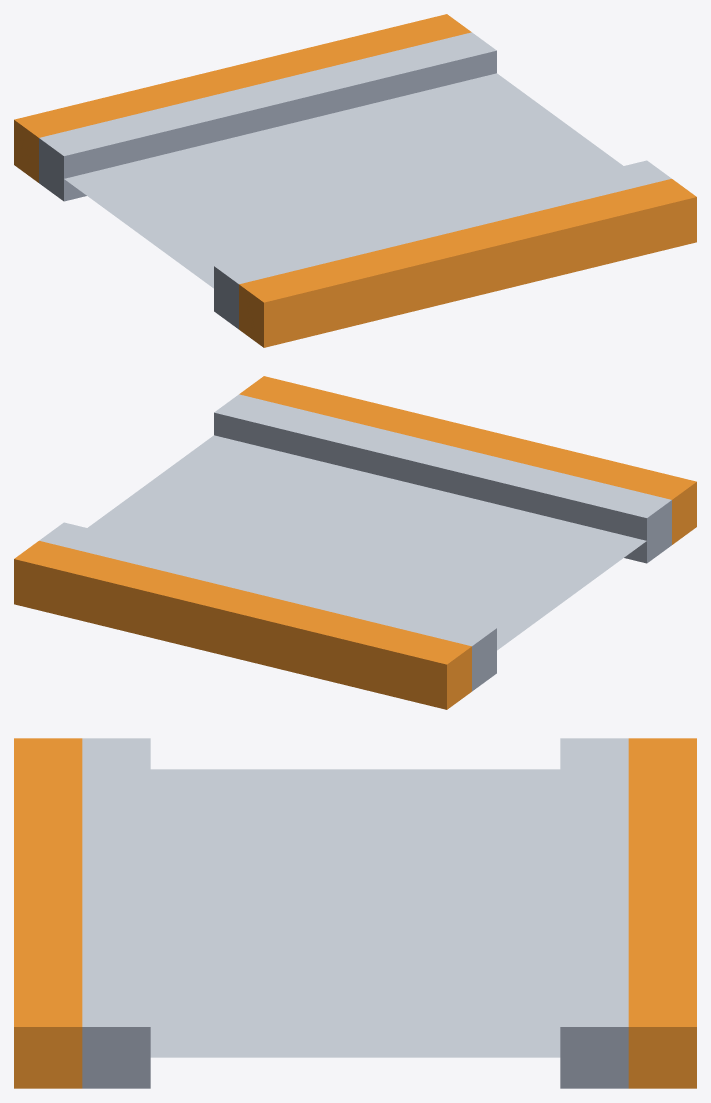
Rendered from platform_straight.glb.
3 views of the same model, one above another, from view 1: azimuth 30°, elevation 25°; view 2: azimuth 150°, elevation 25°; view 3: azimuth 270°, elevation 25° (orthographic). The views are drawn at different scales.
Parts seen in each view (by area): view 1: platform_straight; view 2: platform_straight; view 3: platform_straight.
Boxes of the visible parts, box(x1,y1,x2,y2) form: platform_straight: box(14, 14, 696, 347); platform_straight: box(14, 376, 696, 709); platform_straight: box(14, 738, 696, 1088).
Bounding box in the file's own units: 1 × 0.1 × 1.
